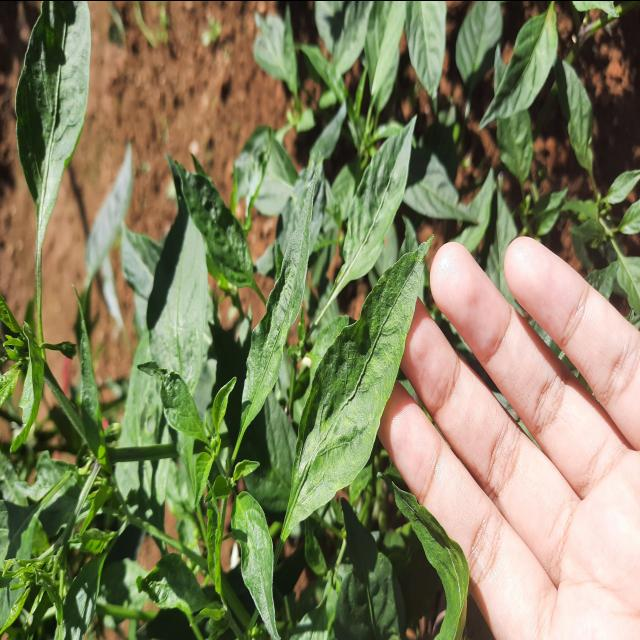thrips: (275, 222, 429, 546), (226, 153, 328, 470)
